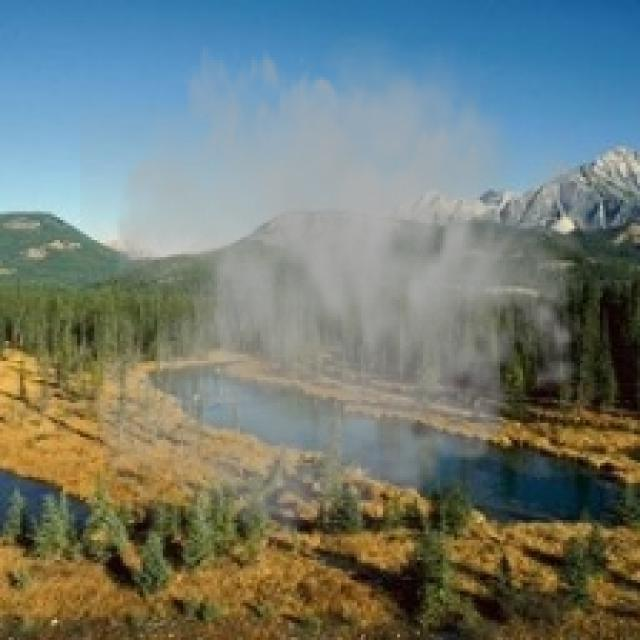Smoke: (80, 8, 614, 563)
